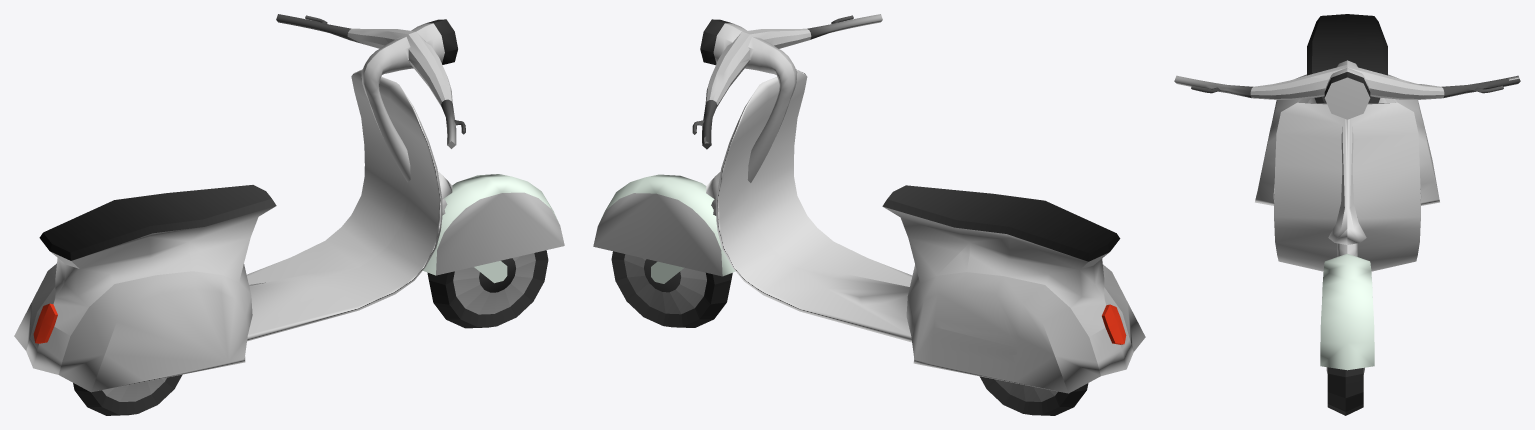
The model's file is SM_Scooter_mash.fbx.
3 views of the same model, side by side, from view 1: azimuth 30°, elevation 25°; view 2: azimuth 150°, elevation 25°; view 3: azimuth 270°, elevation 25° (orthographic).
Parts seen in each view (by area): view 1: mesh_Scooter; view 2: mesh_Scooter; view 3: mesh_Scooter.
Part boxes in pixels (<box>): mesh_Scooter: <box>14,14,564,415</box>; mesh_Scooter: <box>593,14,1145,415</box>; mesh_Scooter: <box>1174,14,1520,415</box>.
Bounding box in the file's own units: 1.44 × 0.8272 × 0.8301.
